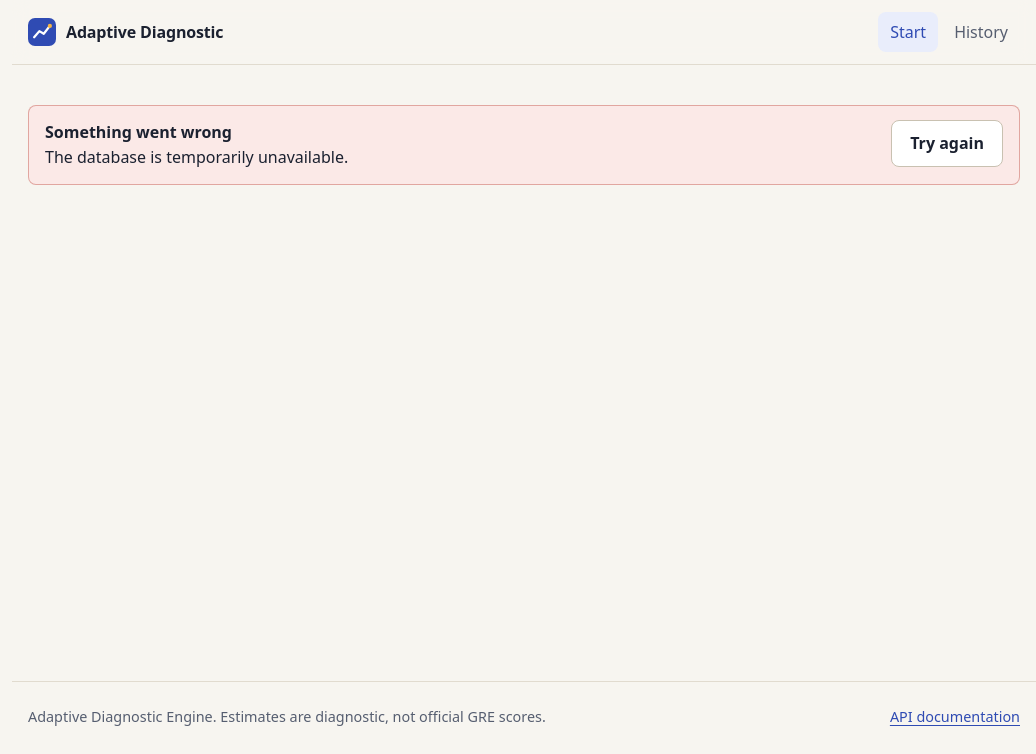
setup page › shows a retryable error when topics fail to load
The width and height of the screenshot is (1036, 754).
Expected: the text "The database is temporarily unavailable." is shown, [45,146,348,168]
Click the button "Try again" at (947, 143), box [891,120,1003,167]
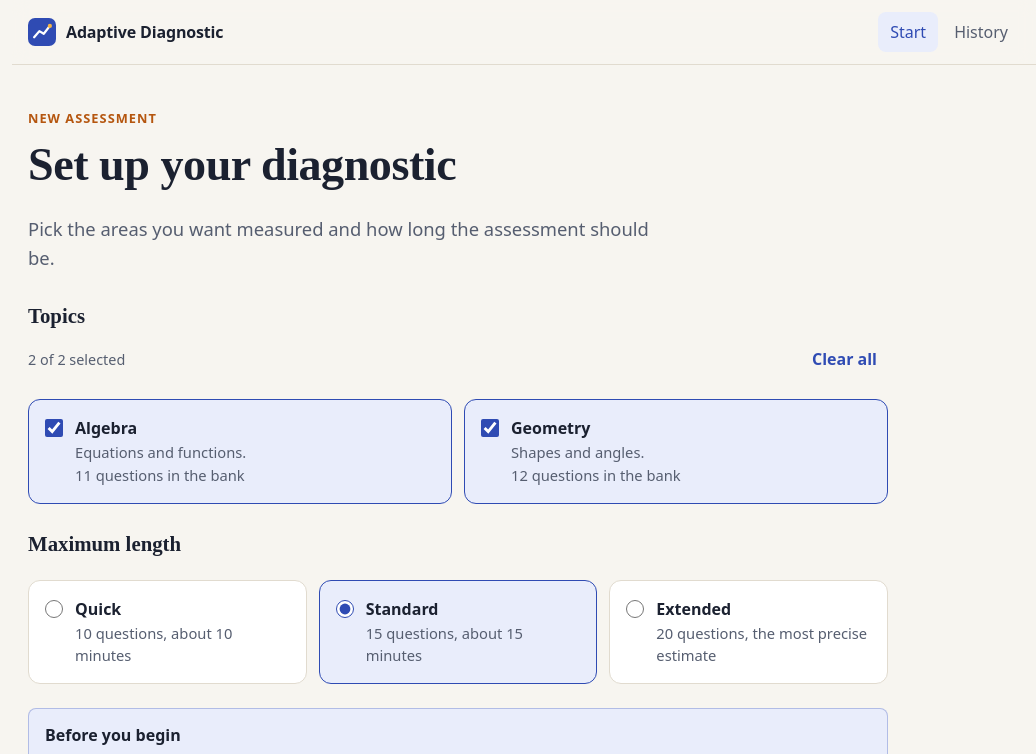
Expected: the checkbox labelled "Algebra Equations and functions. 11 questions in the bank" is checked, [45,419,63,437]
